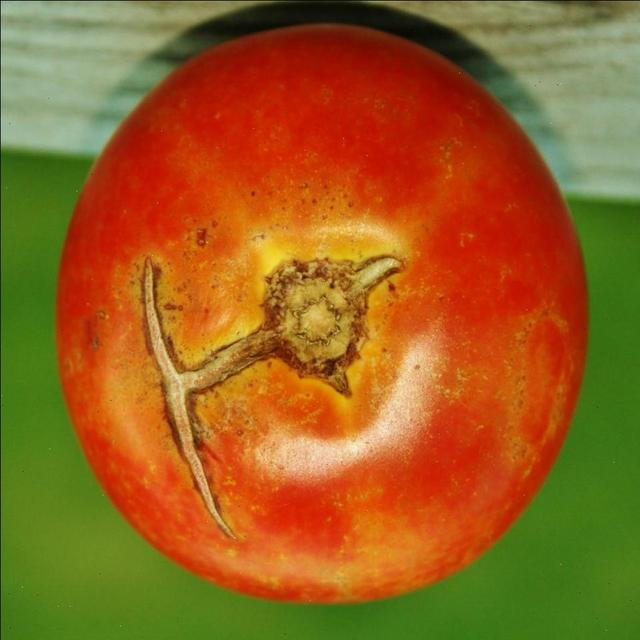Cracking Fruit: (79, 158, 165, 365)
